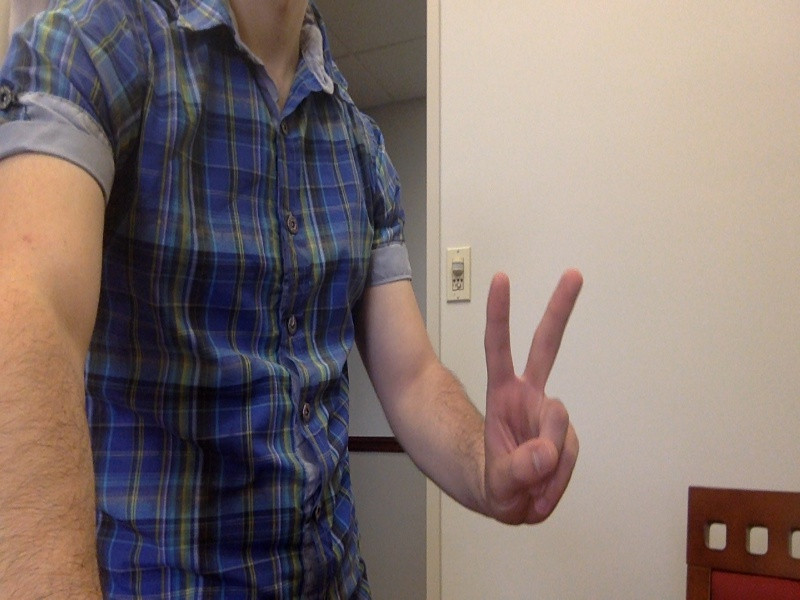2-hand: (483, 265, 598, 534)
